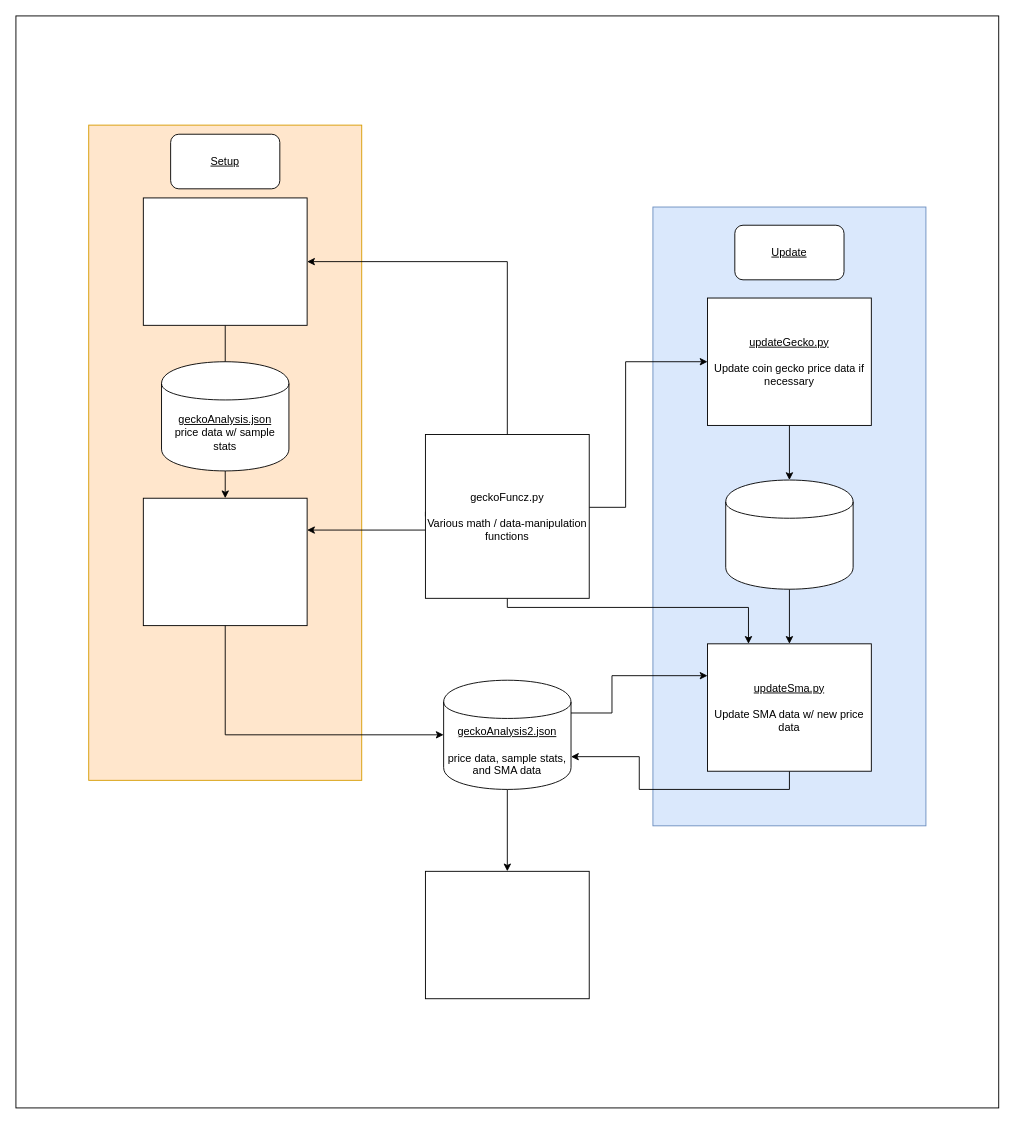
Image size: 1015x1124. Some labels were removed from this diagram. Here are the shapes that lost their labels. From the top down, the box of each, then its label:
(142, 197, 307, 325): extractGecko.py Extract price data from CoinGecko API
(725, 479, 853, 589): geckoUpdate.json new price data w/ sample stats
(142, 497, 307, 626): sma.py Create original SMA data
(425, 870, 589, 999): plot.py Plot price / SMA data
